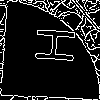H: (25, 25, 76, 64)
